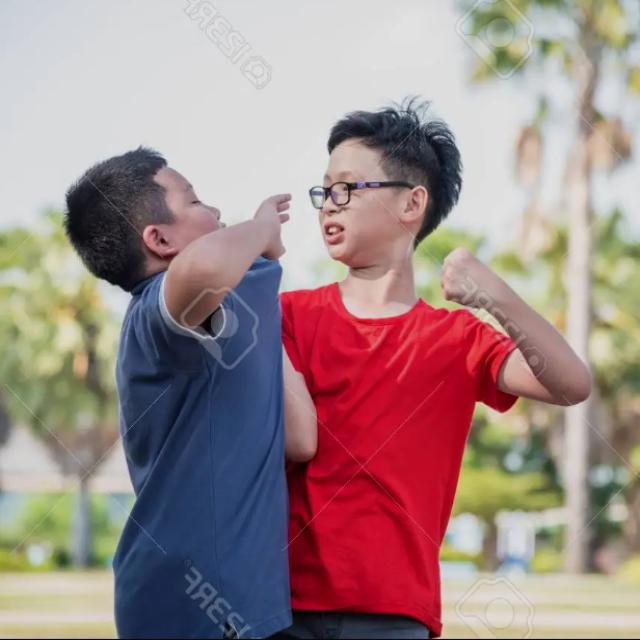fight: (66, 103, 590, 640)
